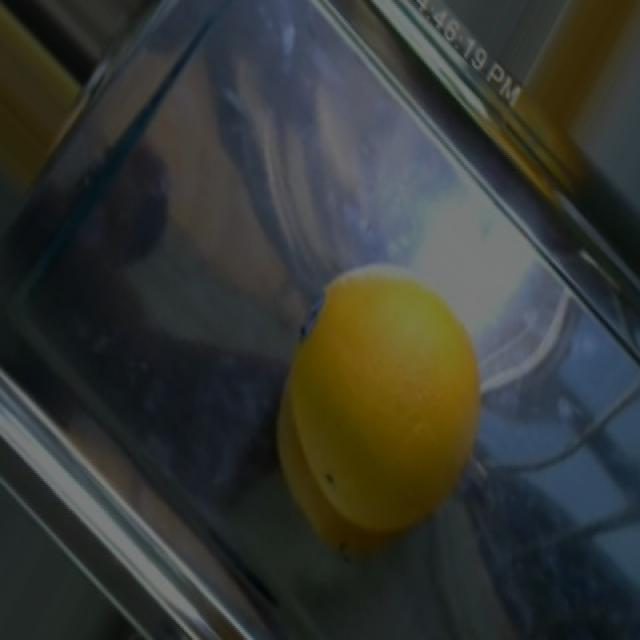Fruit: (257, 244, 503, 578)
